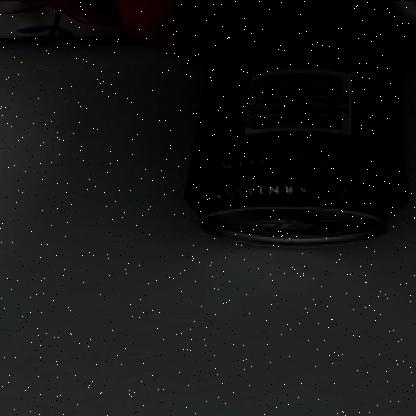Can: (185, 0, 409, 250)
